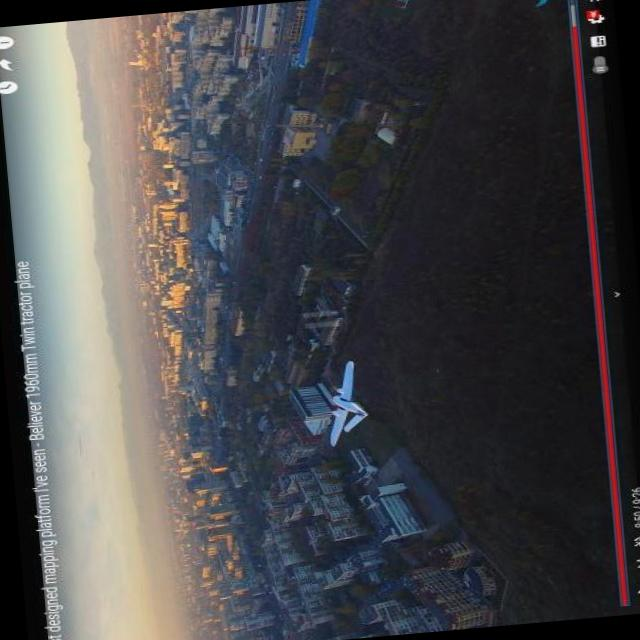UAV: (296, 350, 394, 447)
